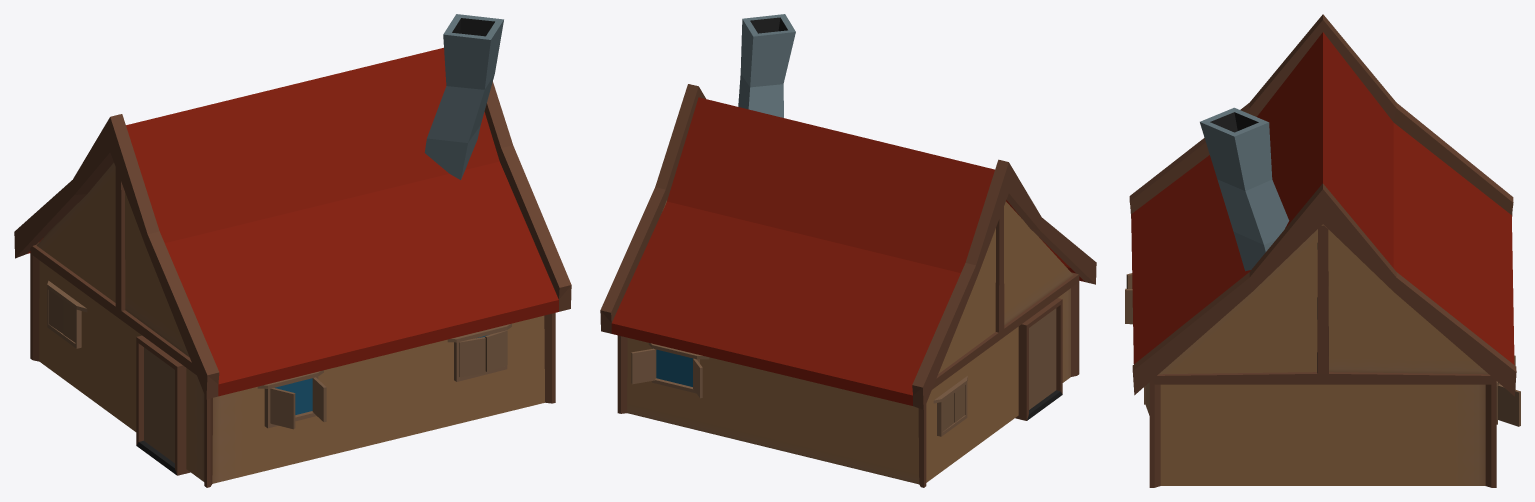
The model's file is House1.fbx.
The picture shows the model from 3 angles, left to right: view 1: azimuth 30°, elevation 25°; view 2: azimuth 150°, elevation 25°; view 3: azimuth 270°, elevation 25°; orthographic projection. The views are drawn at different scales.
Parts seen in each view (by area): view 1: Cube.012; view 2: Cube.012; view 3: Cube.012.
Part boxes in pixels (bbox=[...]): Cube.012: bbox=[14, 14, 571, 487]; Cube.012: bbox=[600, 14, 1096, 487]; Cube.012: bbox=[1125, 14, 1520, 487].
Bounding box in the file's own units: 735 × 682 × 697.
